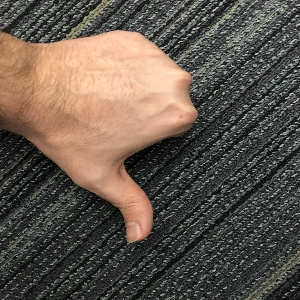hand: (40, 30, 198, 242)
